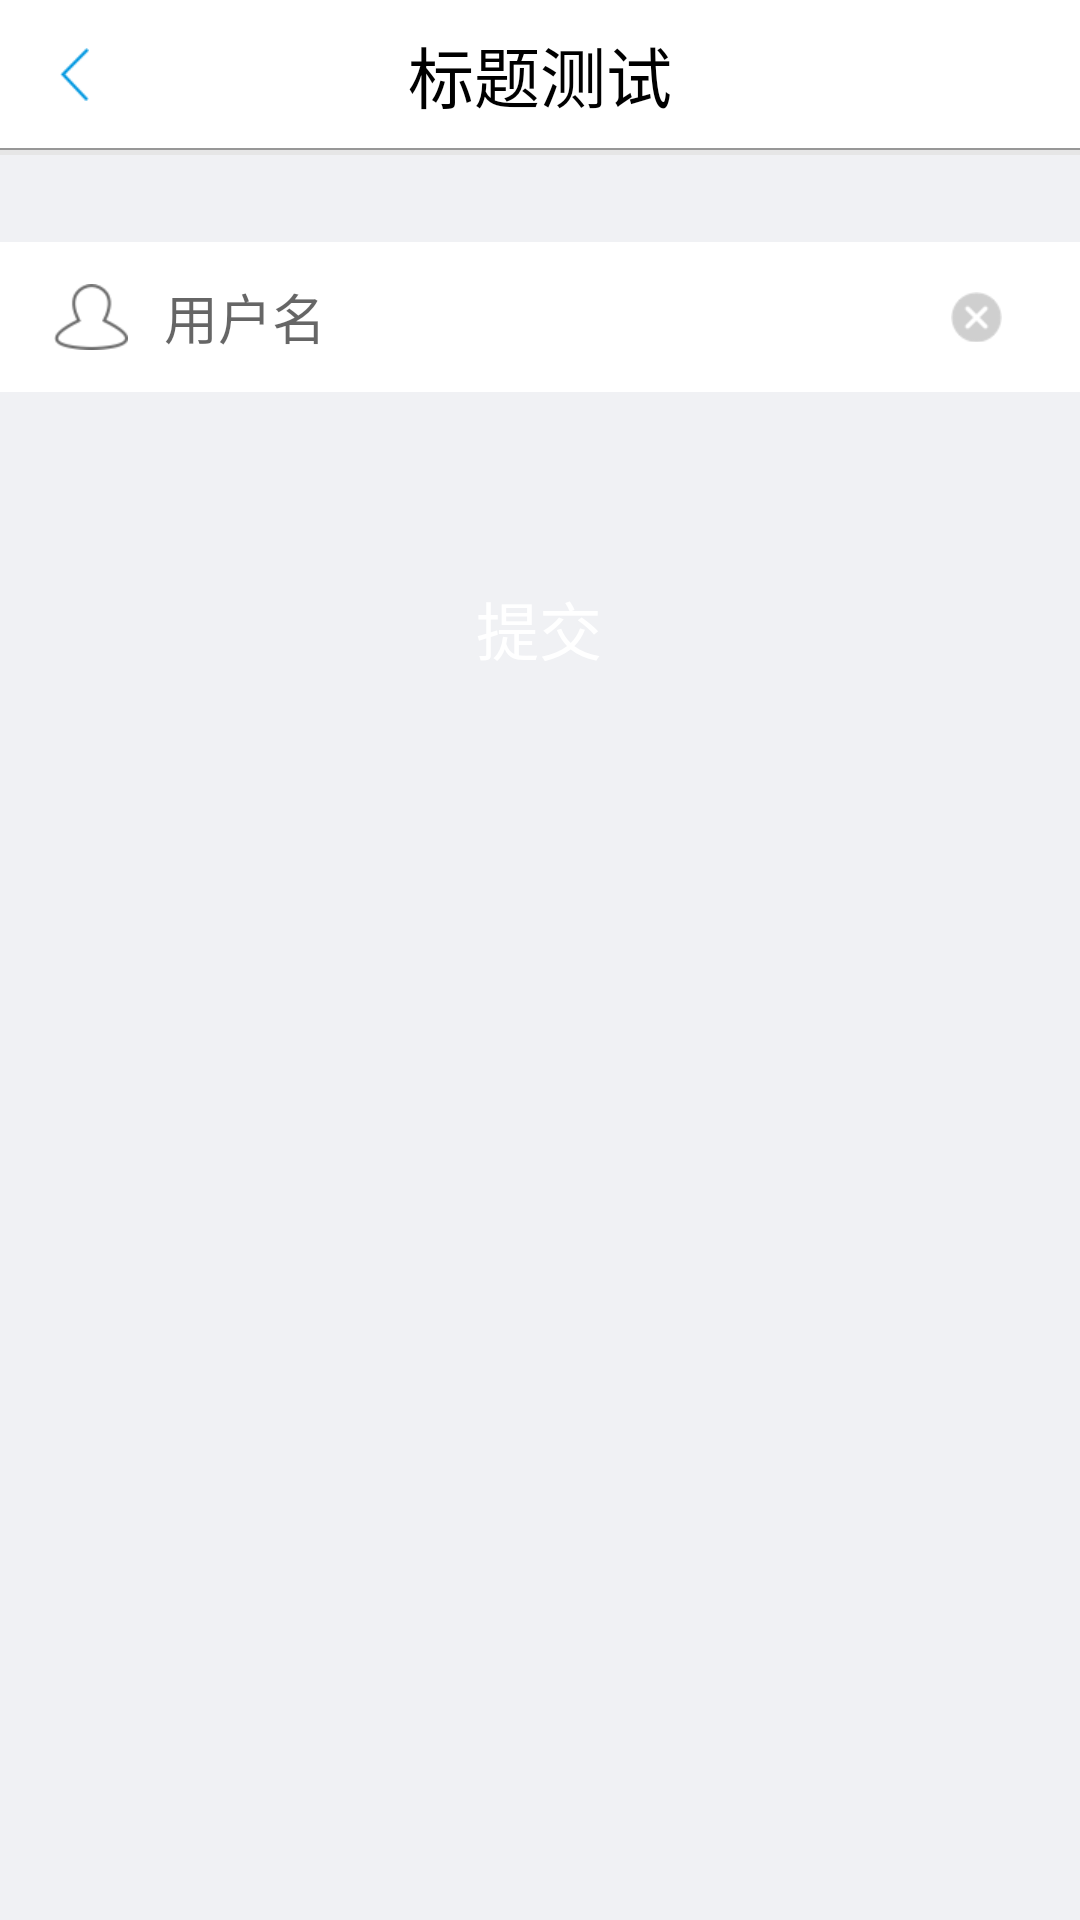

Where to tap for icons on this 1080×1920 app screen, as point (x, y):
back: point (74, 74)
modify cancel: point (976, 317)
modify name: point (91, 317)
